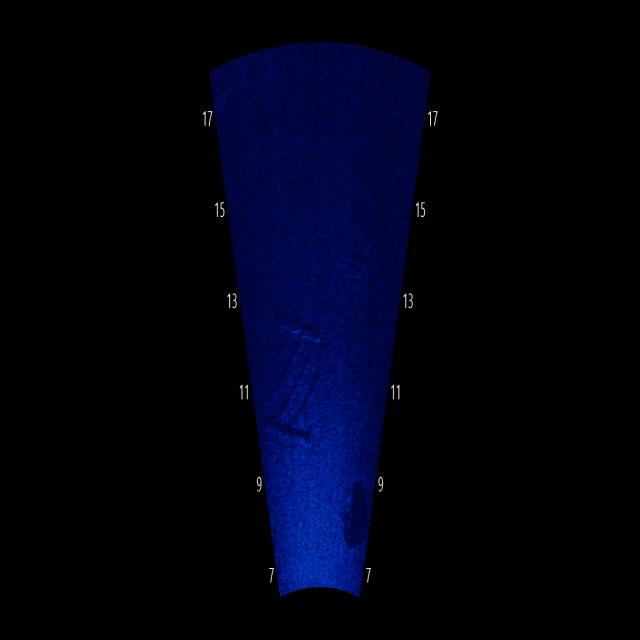square: (270, 278, 342, 459)
